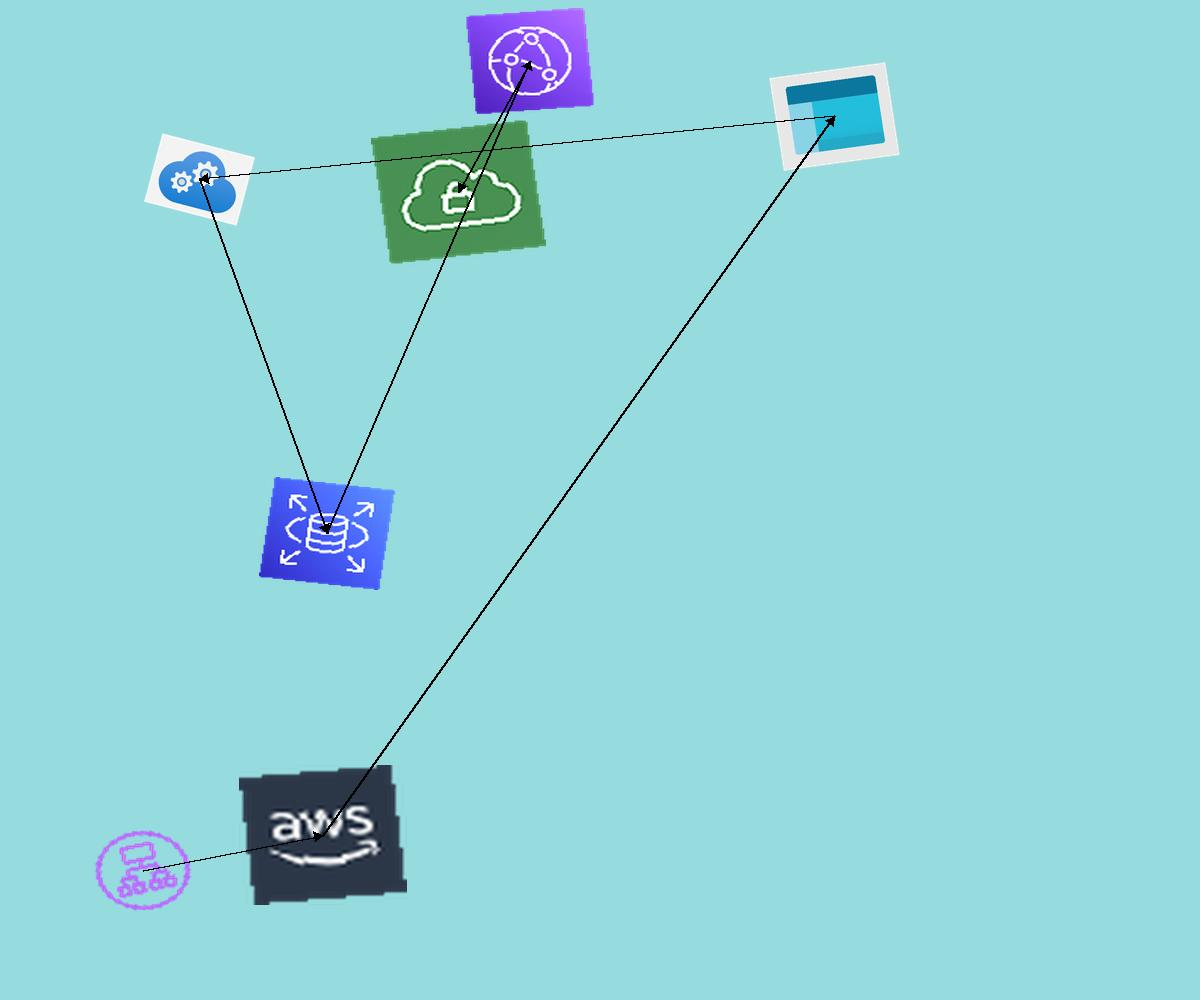AWS-Cloud-logo: (239, 765, 407, 905)
AWS-CloudFront: (465, 7, 595, 115)
AWS-Private_vpc: (371, 119, 546, 265)
AWS-RDS: (259, 477, 395, 590)
AWS-Res_Elastic-Load-Balancing_Application-Load-Balancer: (79, 817, 207, 924)
Azure_cloud_services: (144, 133, 255, 226)
Azure_management-portal: (769, 62, 900, 171)
